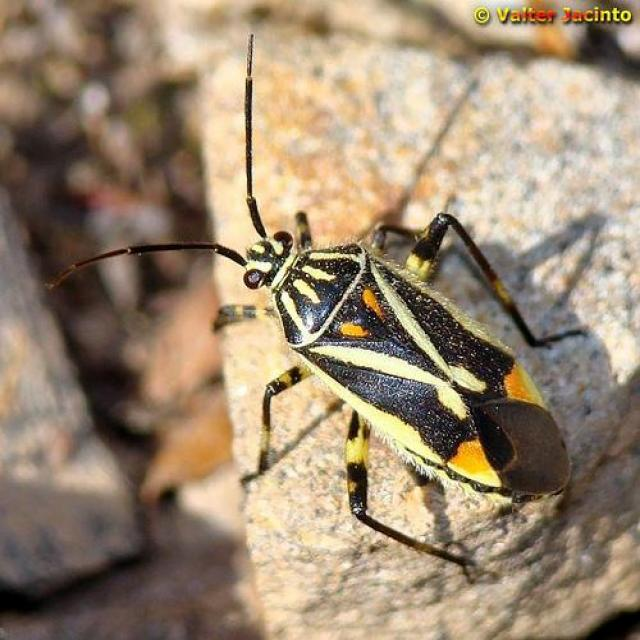Miridae-Adult-: (71, 32, 600, 569)
